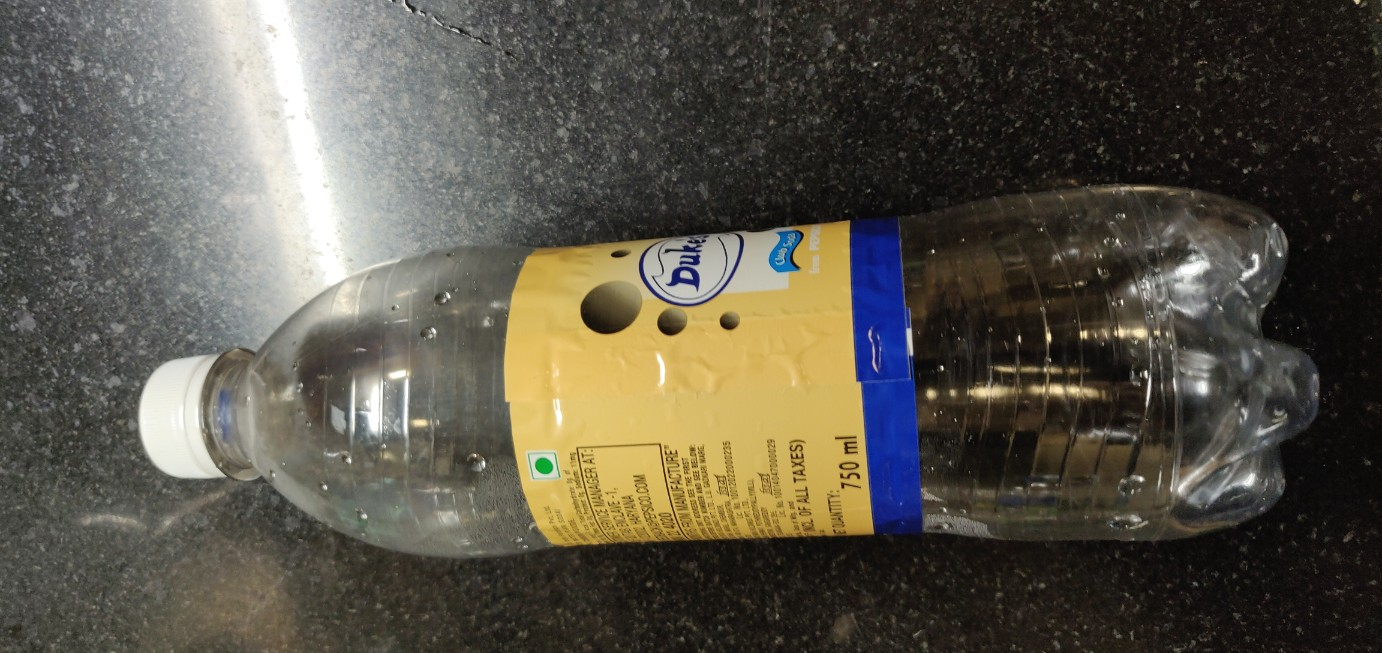Electronics: (122, 163, 1344, 559)
